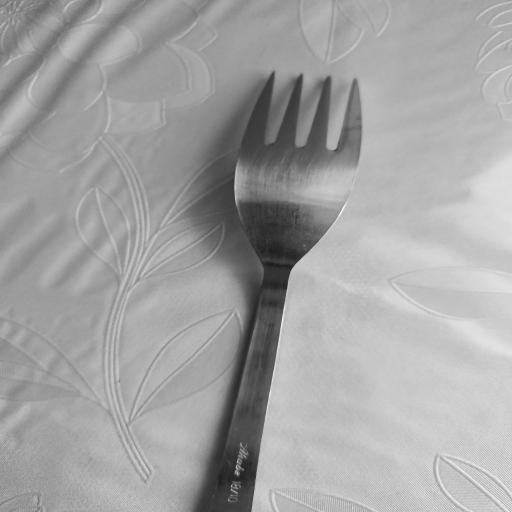fork: (188, 73, 366, 512)
